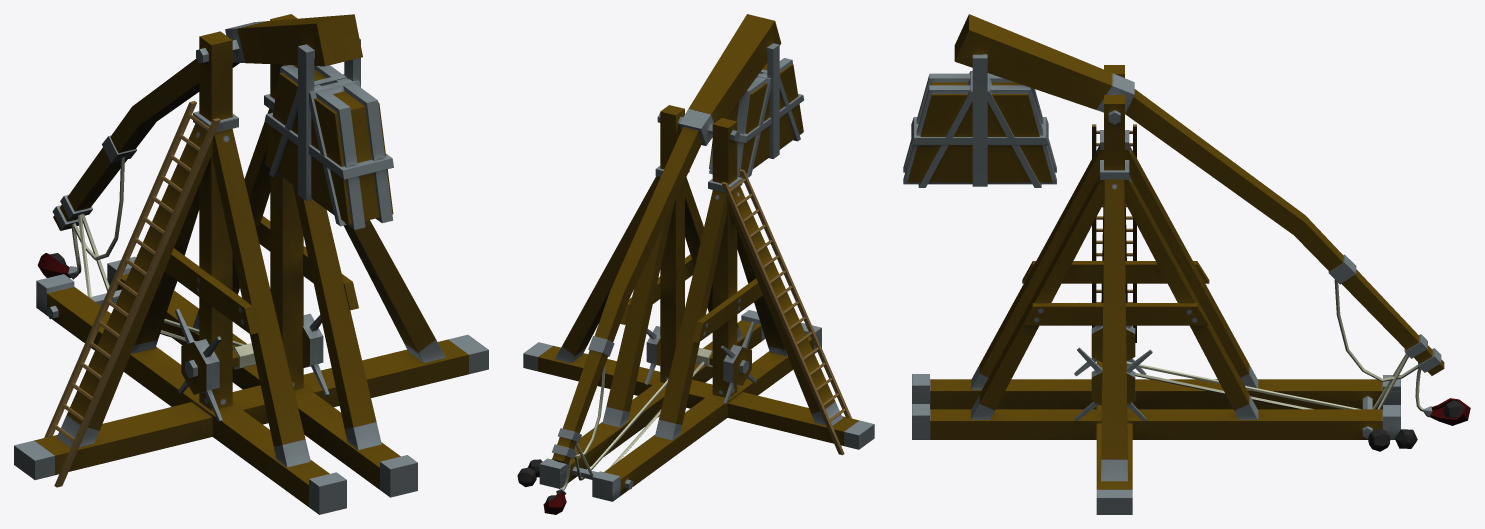
Rendered from trebuchet.glb.
3 views of the same model, side by side, from view 1: azimuth 30°, elevation 25°; view 2: azimuth 150°, elevation 25°; view 3: azimuth 270°, elevation 25° (orthographic). The views are drawn at different scales.
Visible parts, largest first — view 1: Trebuchet; view 2: Trebuchet; view 3: Trebuchet.
Boxes of the visible parts, bbox=[...] form: Trebuchet: bbox=[14, 14, 488, 514]; Trebuchet: bbox=[517, 14, 874, 514]; Trebuchet: bbox=[903, 14, 1470, 514].
Bounding box in the file's own units: 1.6 × 1.58 × 2.
1 material, 1 textured.
